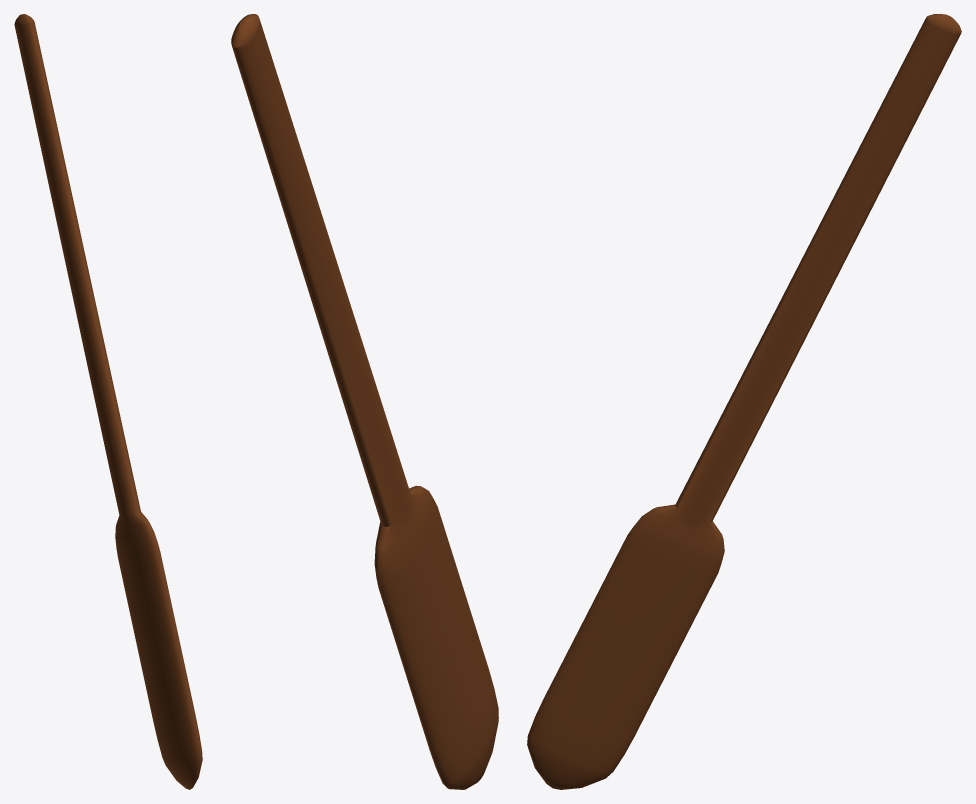
File: Oar.fbx
3 views of the same model, side by side, from view 1: azimuth 30°, elevation 25°; view 2: azimuth 150°, elevation 25°; view 3: azimuth 270°, elevation 25° (orthographic). The views are drawn at different scales.
Visible parts, largest first — view 1: Oar; view 2: Oar; view 3: Oar.
Part boxes in pixels (left/top/right/bottom): Oar: left=14, top=14, right=202, bottom=789; Oar: left=231, top=14, right=498, bottom=789; Oar: left=527, top=14, right=961, bottom=789.
Bounding box in the file's own units: 8.44 × 289 × 147.
